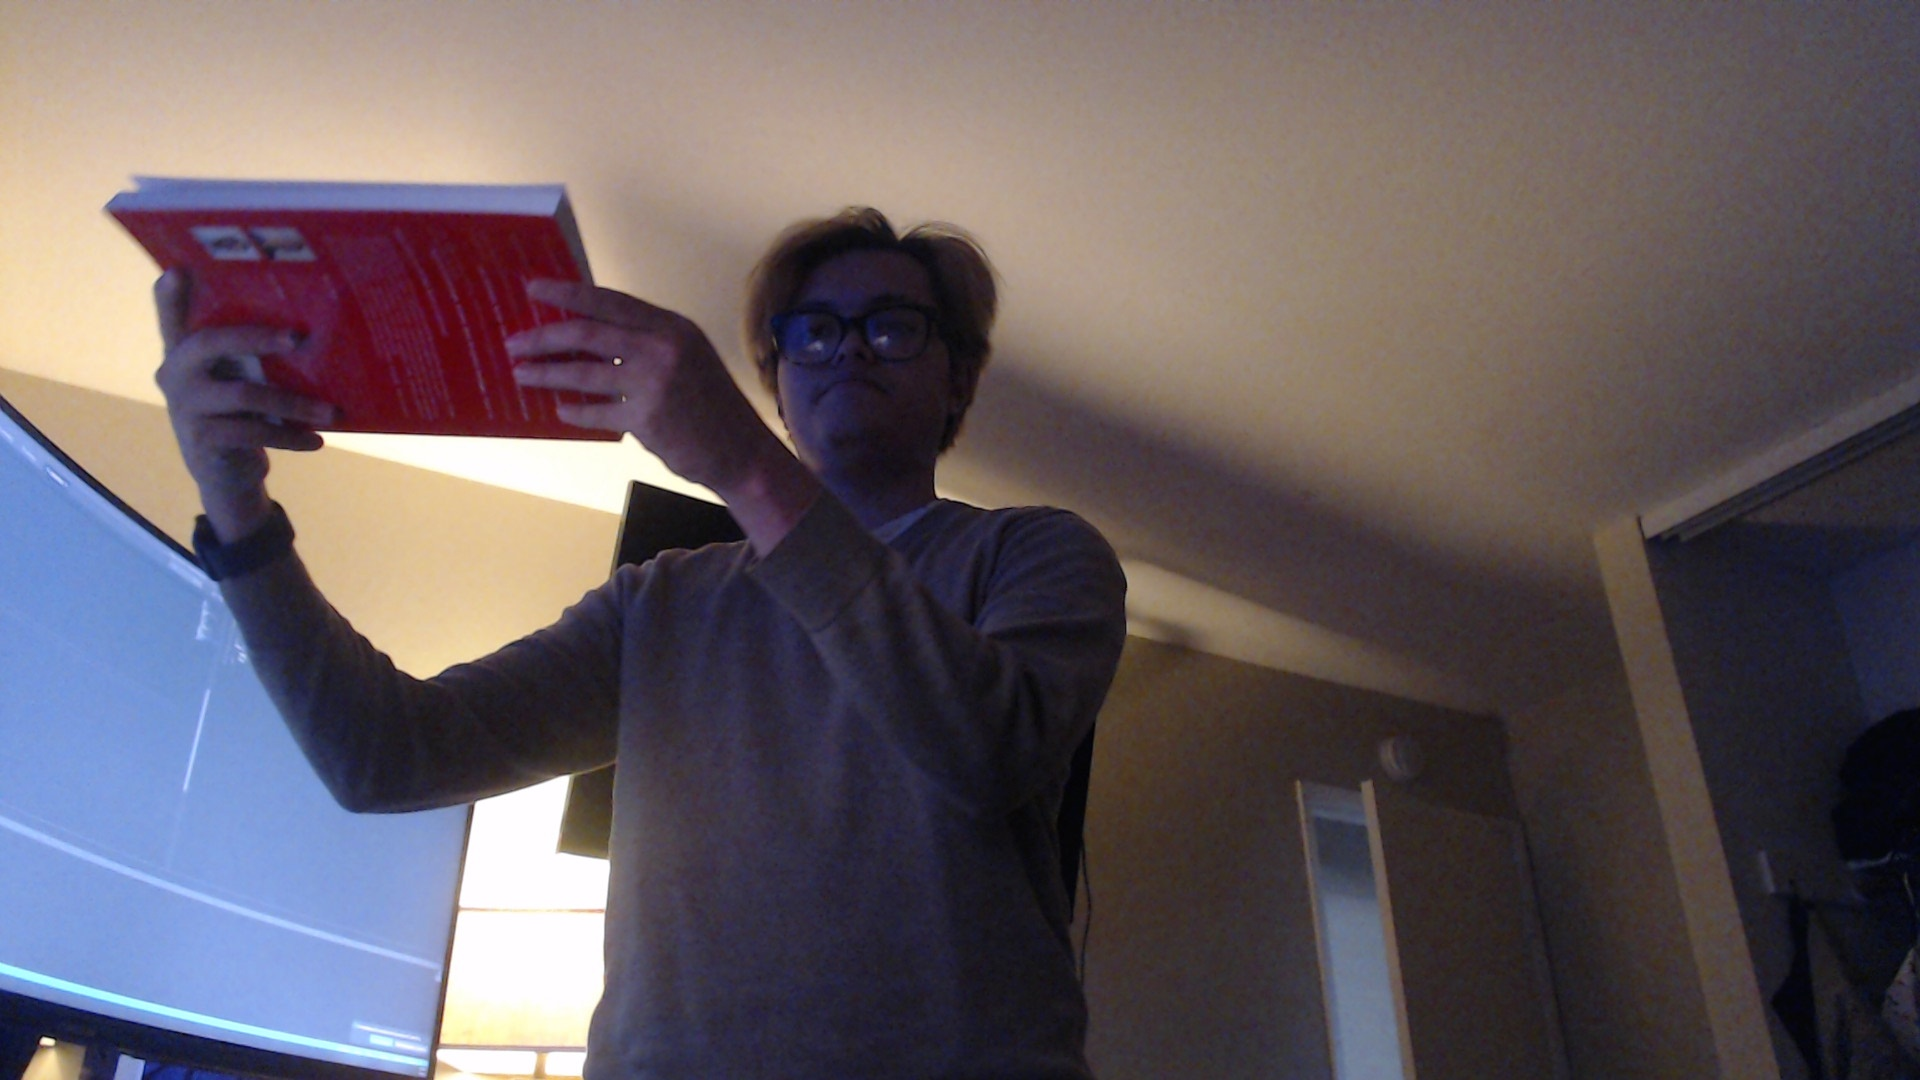book: (103, 169, 630, 440)
